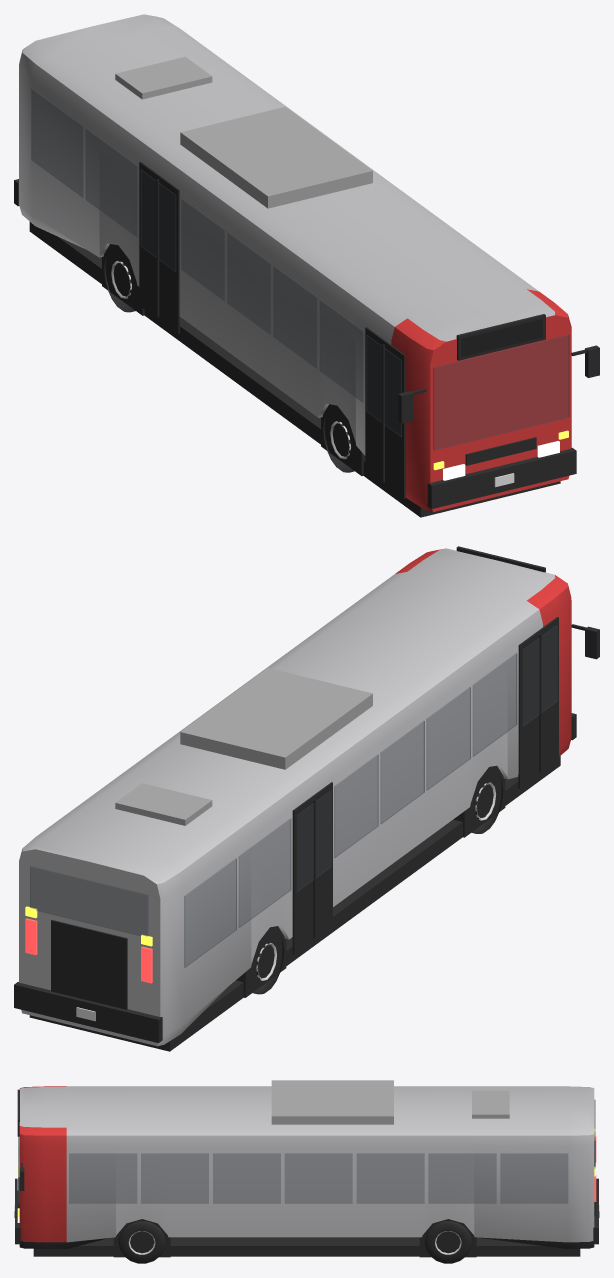
File: bus_muni.glb
The picture shows the model from 3 angles, top to bottom: view 1: azimuth 30°, elevation 25°; view 2: azimuth 150°, elevation 25°; view 3: azimuth 270°, elevation 25°; orthographic projection. The views are drawn at different scales.
Visible parts, largest first — view 1: body, destsign; view 2: body; view 3: body, wheel_fr, wheel_rr.
Part boxes in pixels (<box>): body: <box>14,14,599,517</box>; destsign: <box>461,319,542,356</box>; body: <box>14,546,599,1051</box>; body: <box>14,1080,599,1257</box>; wheel_fr: <box>118,1221,165,1263</box>; wheel_rr: <box>424,1221,471,1263</box>.
Bounding box in the file's own units: 3.4 × 3.29 × 12.44.
